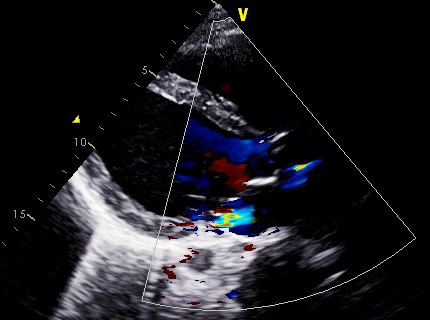AR: (211, 142, 269, 200)
